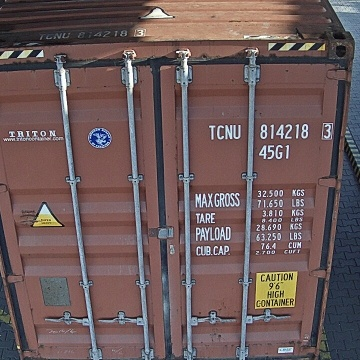serial_id: (209, 122, 333, 139)
